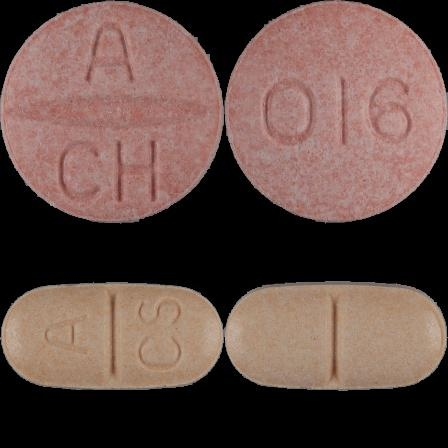0186-0016: (0, 0, 224, 224)
